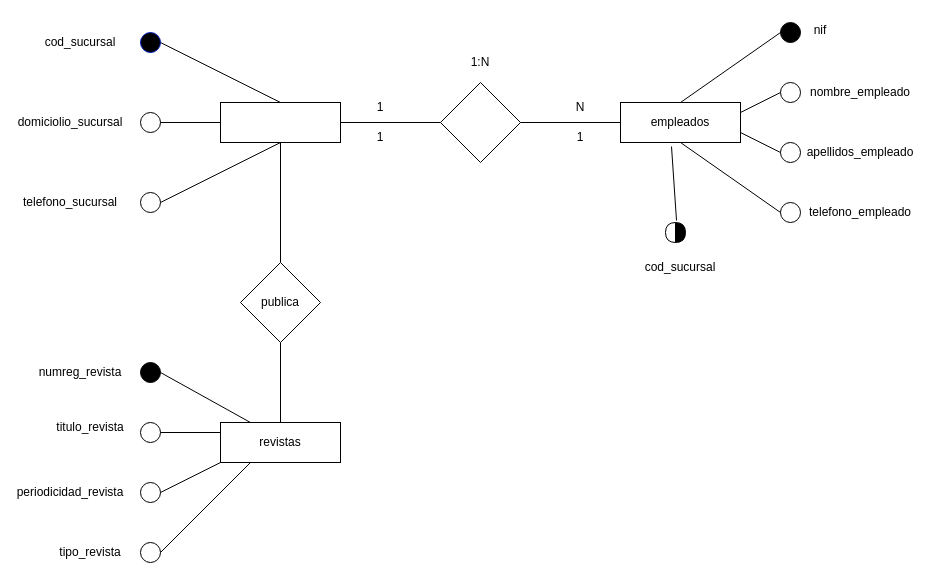
Some shapes in this 931 by 584 pixel diagram are drawn without their labels. The centre of each missing label's shape, as x and y in pixels:
sucursales: point (280, 122)
trabaja: point (480, 122)
